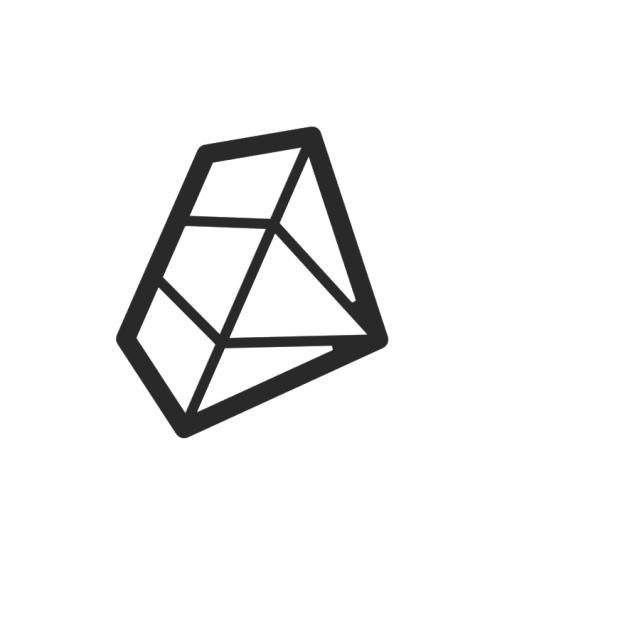diamond: (109, 123, 395, 448)
